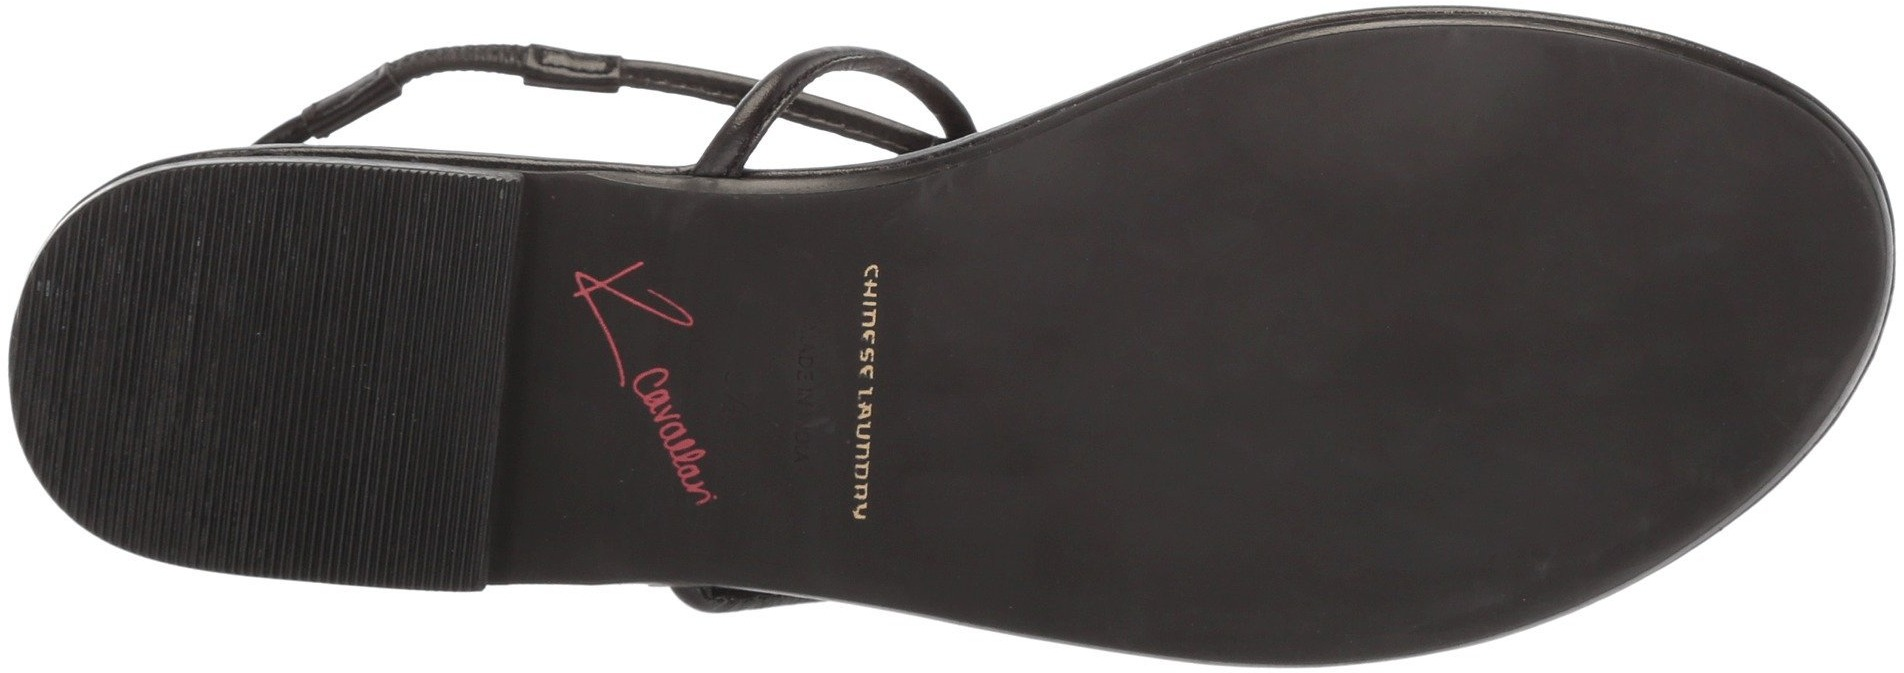exclude: (614, 575, 840, 663)
other: (953, 36, 1888, 664), (11, 164, 531, 589), (1300, 47, 1725, 524), (930, 170, 1307, 575), (254, 186, 487, 389), (61, 242, 246, 466), (280, 403, 442, 559)
text: (552, 208, 946, 549), (559, 238, 732, 521), (848, 250, 886, 536), (747, 349, 834, 458)
